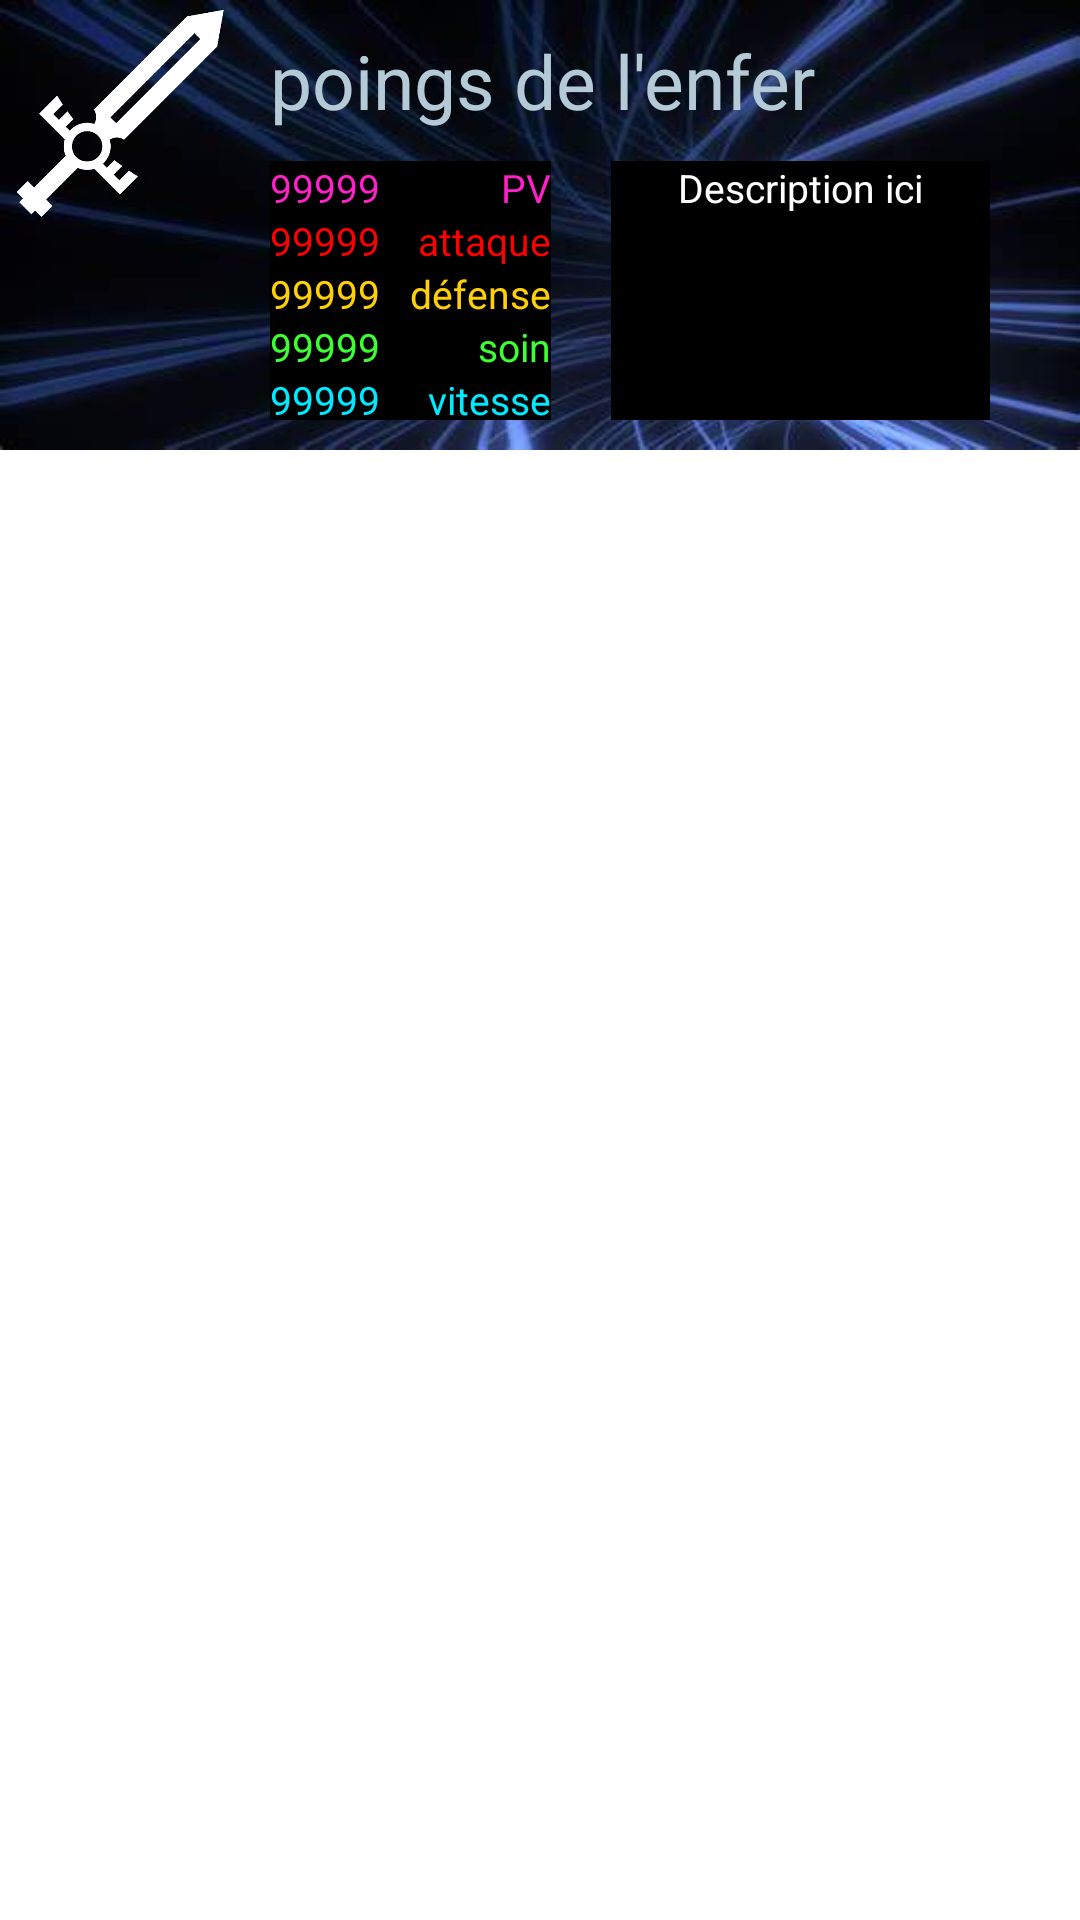

Named icons in this screenshot (1080×1920) and their bounding boxes, (x1,y1,x2,y2):
weapon: (0,0,240,225)
